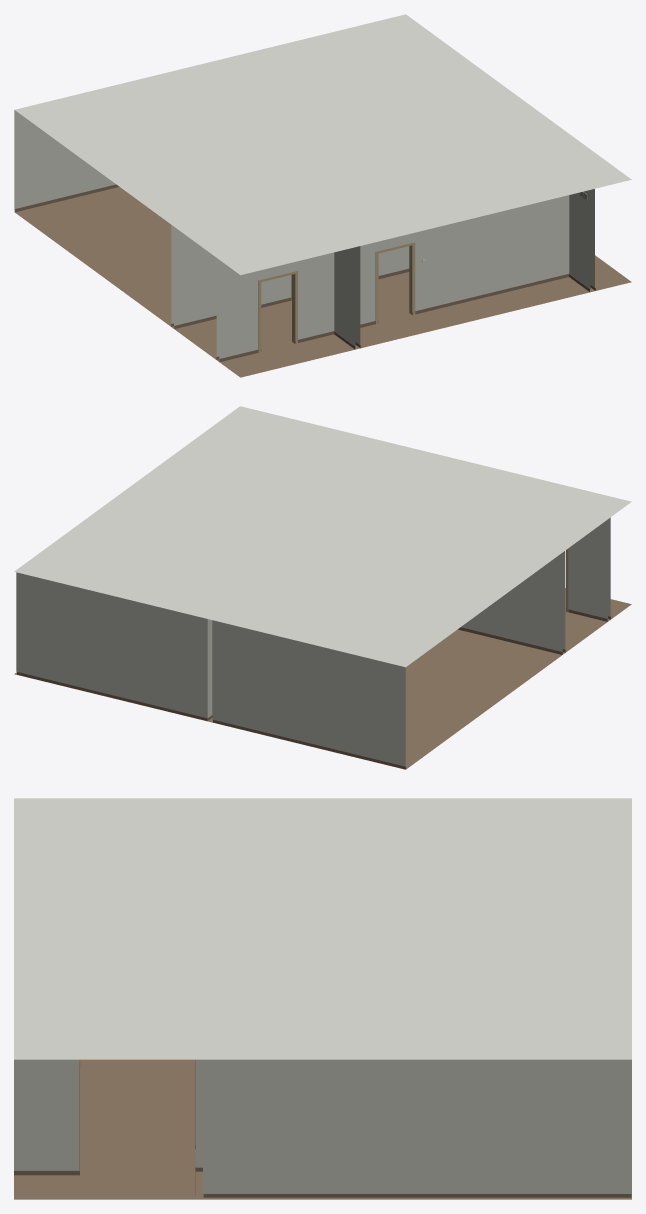
File: chunk_1_0.glb
3 renders of one model, top to bottom at view 1: azimuth 30°, elevation 25°; view 2: azimuth 150°, elevation 25°; view 3: azimuth 270°, elevation 25°, orthographic. The views are drawn at different scales.
Parts seen in each view (by area): view 1: chunk_1_0; view 2: chunk_1_0; view 3: chunk_1_0.
Part boxes in pixels (left/top/right/bottom): chunk_1_0: left=14, top=14, right=631, bottom=377; chunk_1_0: left=14, top=406, right=631, bottom=769; chunk_1_0: left=14, top=798, right=631, bottom=1199.
Size of the model in its own units: 12.03 by 3 by 12.
